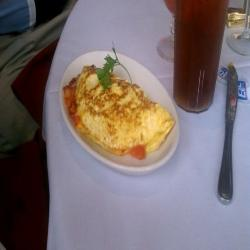omelette: (63, 65, 180, 160)
